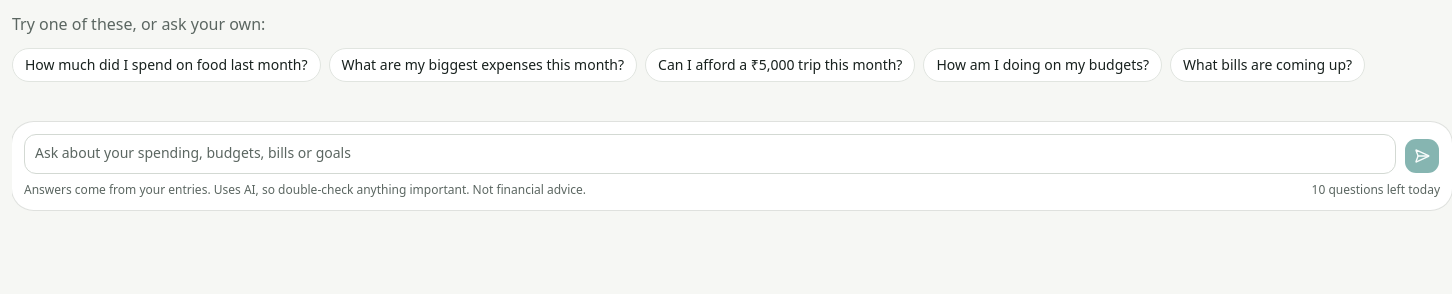
it: money chat › explains the daily limit and points Free users at Pro
The width and height of the screenshot is (1452, 294).
In the text box named "Your question": {"x": 710, "y": 154} [24,134,1396,174], type "One more?"
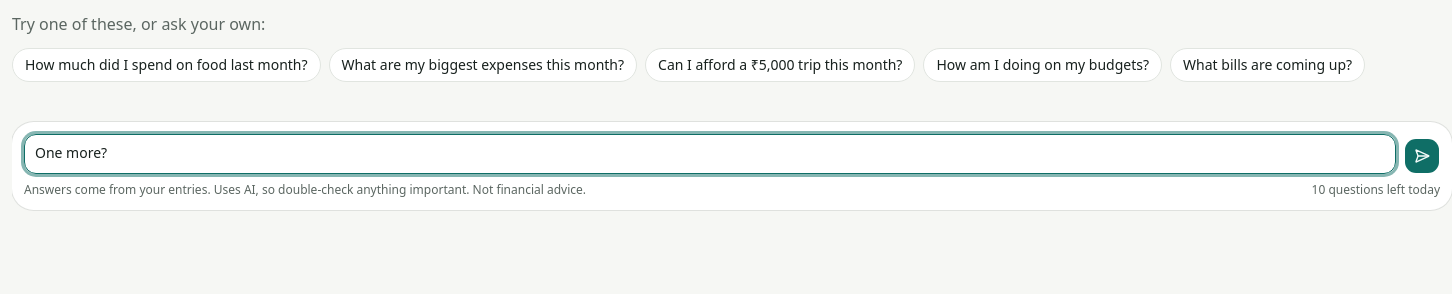
Click the button named "Send": {"x": 1422, "y": 156} [1404,138,1440,174]
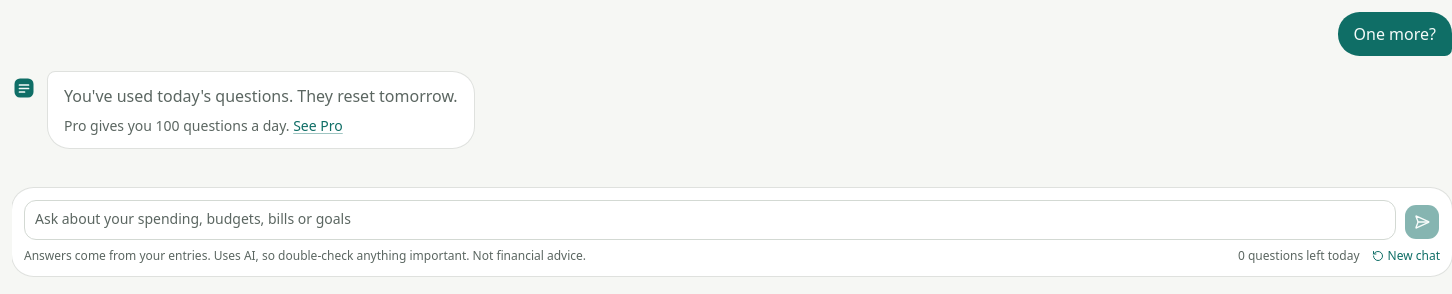
Expected: the text "You've used today's questions. They reset tomorrow." is shown, [64,84,458,108]
Expected: the text "Pro gives you 100 questions a day." is shown, [64,116,343,135]
